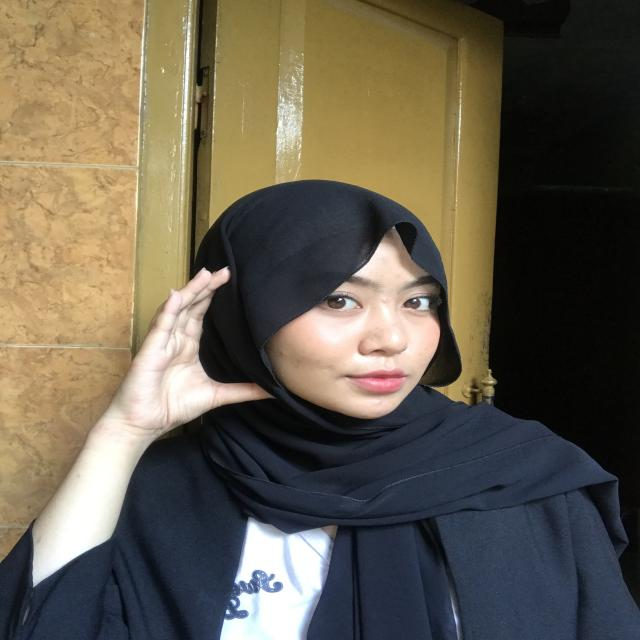mendengar: (72, 261, 298, 433)
